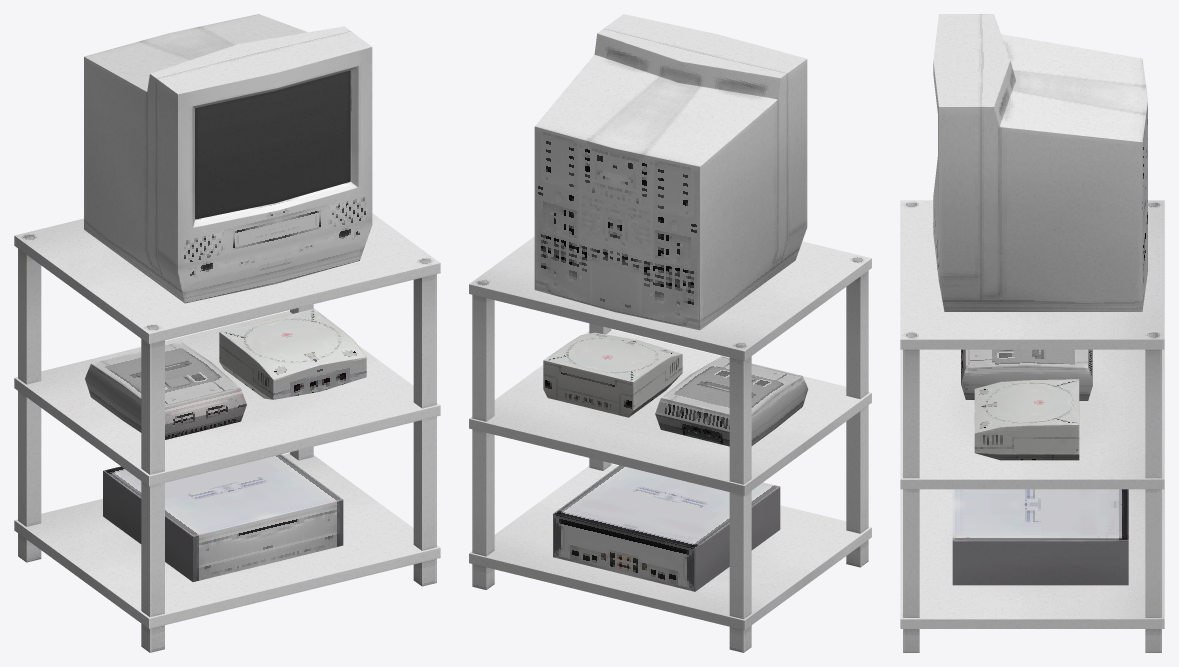
Rendered from TVTable.glb.
3 renders of one model, left to right at view 1: azimuth 30°, elevation 25°; view 2: azimuth 150°, elevation 25°; view 3: azimuth 270°, elevation 25°, orthographic. The views are drawn at different scales.
Visible parts, largest first — view 1: tv table, tv, game-psx, tv screen off, game-dc, game-sf; view 2: tv, tv table, game-psx, game-dc, game-sf; view 3: tv table, tv, game-psx, game-dc, game-sf.
Boxes of the visible parts, x1,y1,x2,y2 form: tv table: (14, 213, 440, 652); tv: (84, 14, 372, 303); game-psx: (103, 454, 343, 581); tv screen off: (195, 70, 350, 219); game-dc: (219, 308, 366, 399); game-sf: (85, 341, 246, 439); tv: (534, 14, 807, 330); tv table: (469, 236, 871, 652); game-psx: (553, 465, 780, 591); game-dc: (543, 332, 682, 417); game-sf: (655, 356, 808, 446); tv table: (900, 200, 1164, 652); tv: (933, 14, 1147, 311); game-psx: (952, 489, 1128, 585); game-dc: (974, 379, 1079, 460); game-sf: (961, 349, 1092, 400).
Size of the model in its own units: 0.6 by 1.05 by 0.48.
4 materials, 4 textured.
